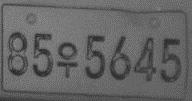4: (133, 37, 158, 82)
5: (31, 32, 55, 78), (83, 34, 107, 78), (160, 37, 182, 83)
6: (108, 36, 131, 80)
8: (6, 31, 29, 76)
우: (55, 42, 80, 78)
